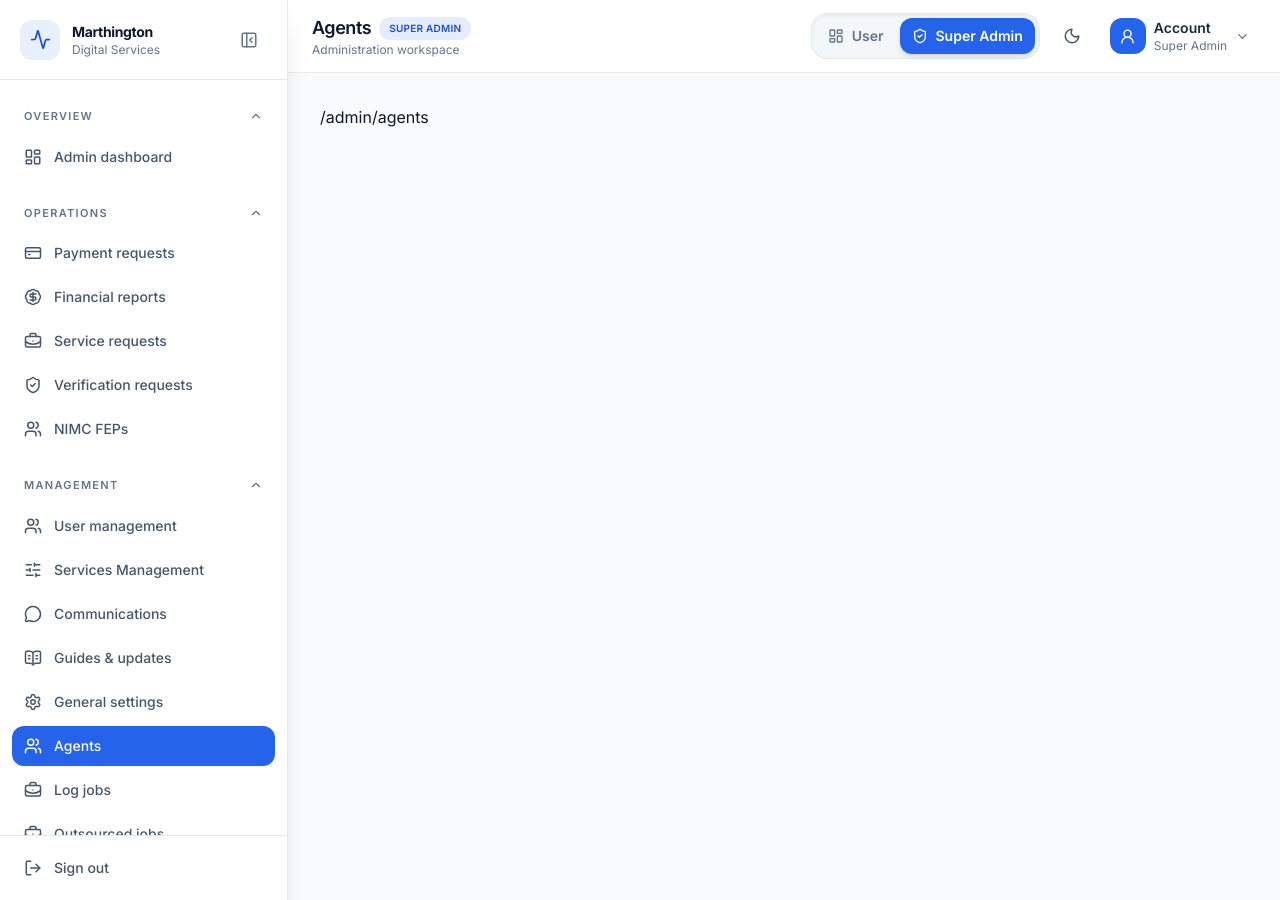
Test: dashboard shell navigation › shows agent and communication navigation only in the super-admin workspace
Expected: the link "Agents" is shown, [12,726,275,766]
Expected: the link "Log jobs" is shown, [24,780,111,798]
Click the link "Communications": x=95, y=614 [24,604,167,622]
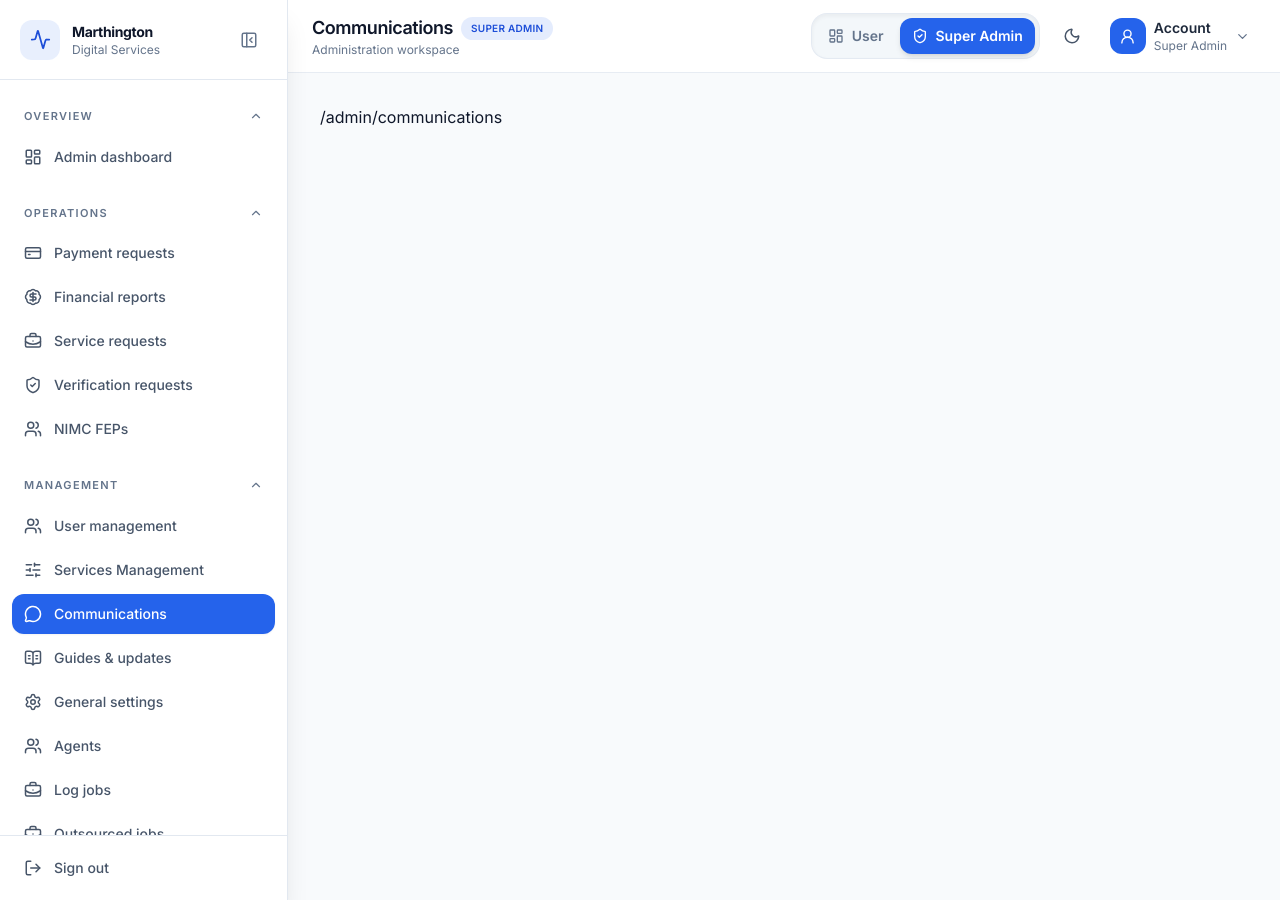
Expected: the text named "Current route" reads "/admin/communications", [320,107,502,127]
